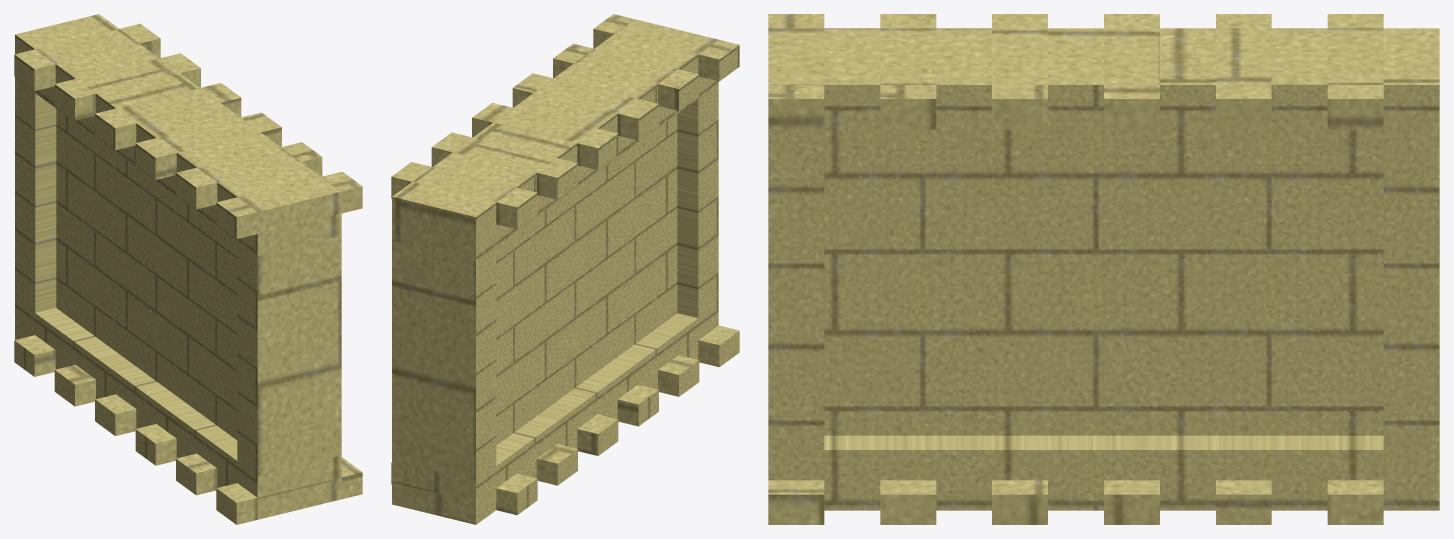
Rendered from Ruins_6.fbx.
3 views of the same model, side by side, from view 1: azimuth 30°, elevation 25°; view 2: azimuth 150°, elevation 25°; view 3: azimuth 270°, elevation 25° (orthographic). The views are drawn at different scales.
Visible parts, largest first — view 1: Ruins_6; view 2: Ruins_6; view 3: Ruins_6.
Boxes of the visible parts, bbox=[...] form: Ruins_6: bbox=[14, 14, 362, 524]; Ruins_6: bbox=[391, 14, 739, 524]; Ruins_6: bbox=[768, 14, 1439, 524].
Size of the model in its own units: 300 by 700 by 1000.
